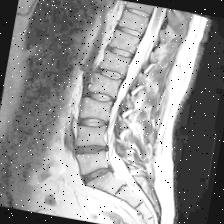disc: (114, 20, 148, 44), (120, 2, 156, 23), (104, 43, 139, 63)
hdisc: (68, 136, 113, 160), (78, 161, 115, 188), (82, 85, 120, 108), (76, 112, 113, 134), (92, 64, 130, 84)
